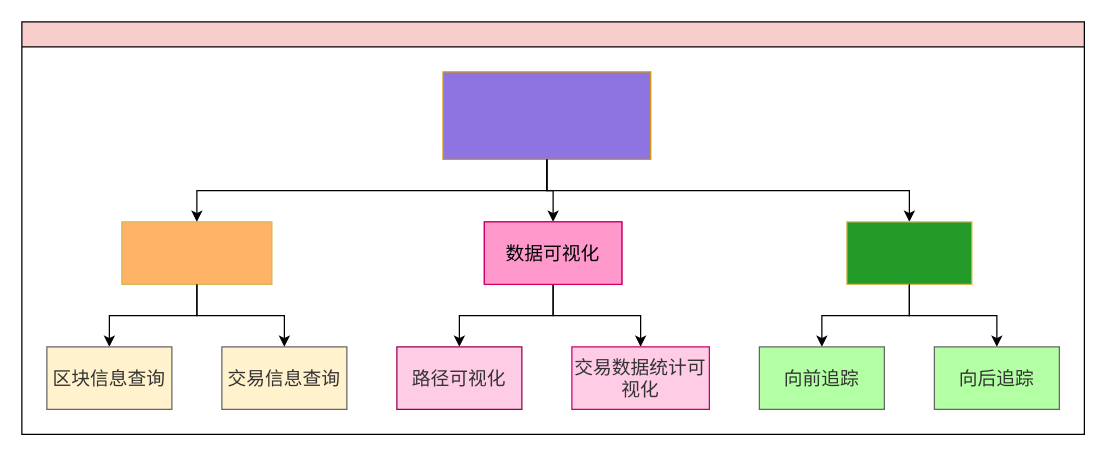
Some shapes in this 1106 by 456 pixel diagram are drawn without their labels. Each missing label, with the box of its shape:
交易路径追踪: (846, 221, 972, 284)
以太坊交易追踪平台: (442, 71, 651, 159)
以太坊信息查询: (121, 221, 272, 284)
